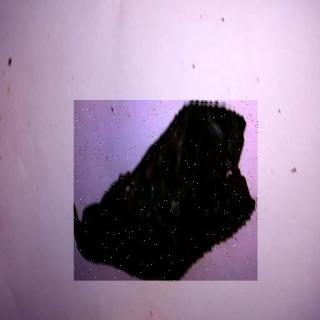Bird Eye Spot: (75, 101, 260, 282)
